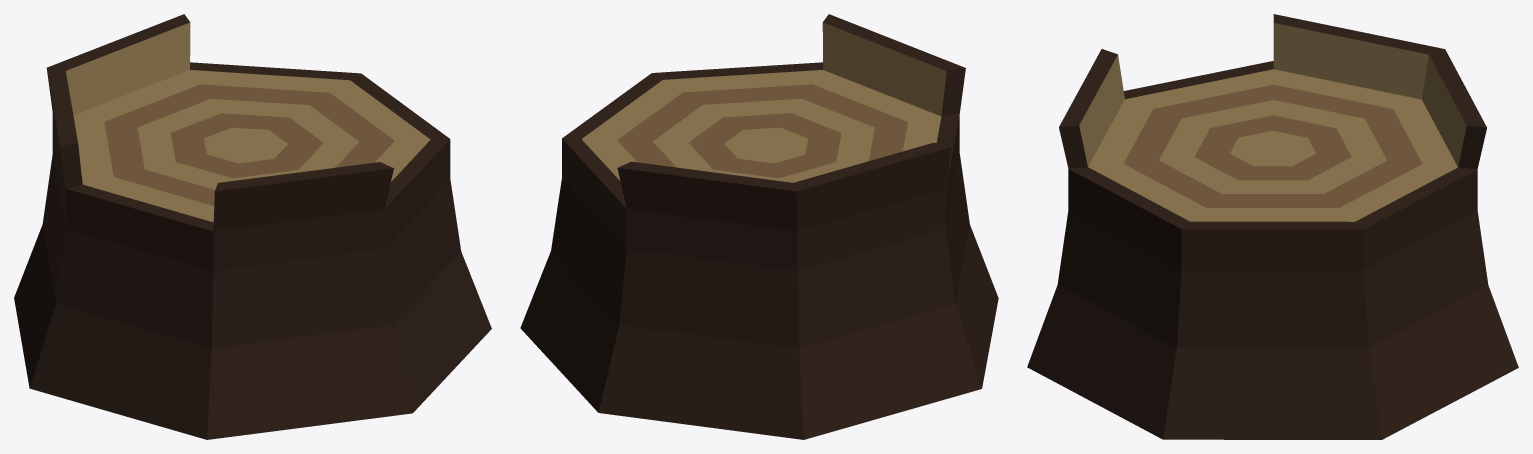
The model's file is CepoDeMadeira.fbx.
The picture shows the model from 3 angles, left to right: view 1: azimuth 30°, elevation 25°; view 2: azimuth 150°, elevation 25°; view 3: azimuth 270°, elevation 25°; orthographic projection.
Parts seen in each view (by area): view 1: Cylinder.002; view 2: Cylinder.002; view 3: Cylinder.002, Cylinder.006.
Part boxes in pixels (x1,y1,x2,y2): Cylinder.002: [14, 14, 491, 439]; Cylinder.002: [520, 14, 998, 439]; Cylinder.002: [1027, 14, 1518, 439]; Cylinder.006: [1185, 277, 1359, 340].
Size of the model in its own units: 162 by 88.59 by 166.
